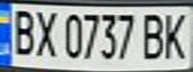0: (60, 9, 84, 60)
3: (100, 10, 121, 61)
7: (115, 10, 142, 61), (78, 10, 100, 61)
B: (6, 6, 39, 57), (136, 10, 169, 60)
K: (157, 9, 193, 61)
X: (30, 7, 60, 58)
